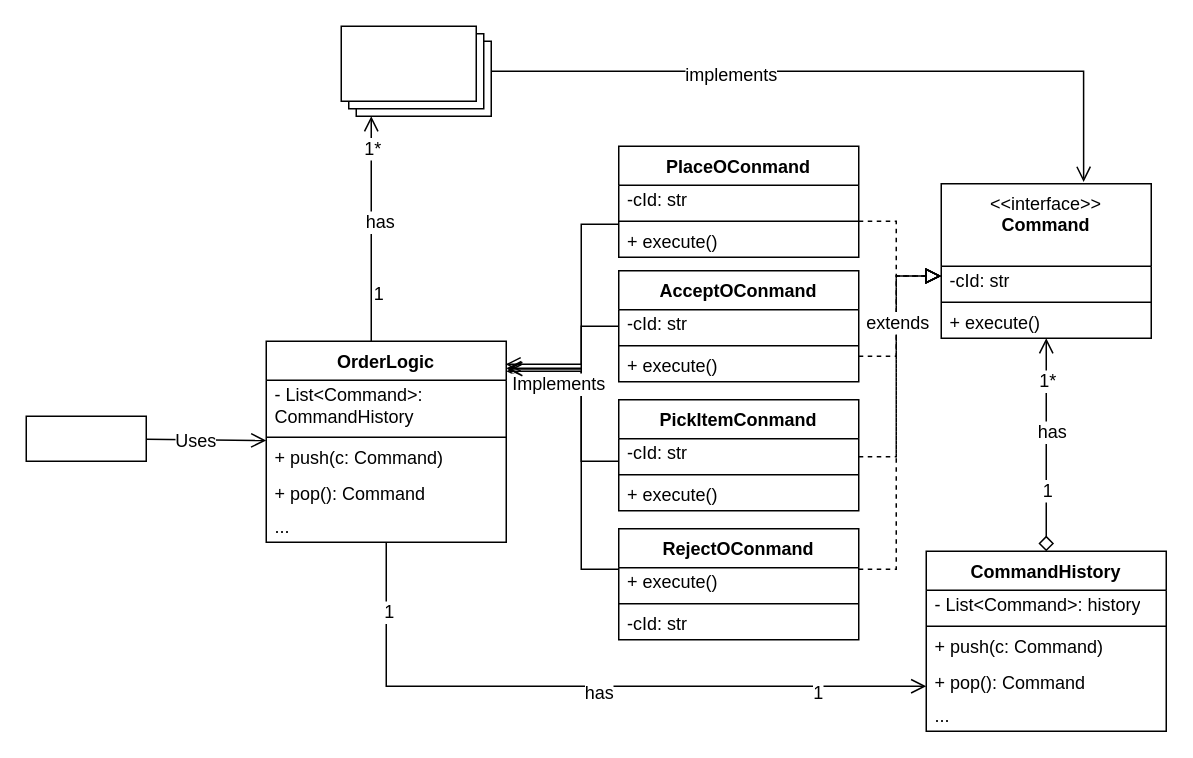
Some shapes in this 1193 by 758 pixel diagram are drawn without their labels. Each missing label, with the centre of its shape:
"Buttons" goes at point (415, 70).
"ORD" goes at point (85, 438).
